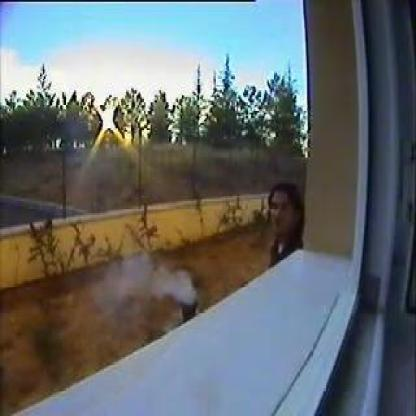-: (103, 256, 196, 300)
